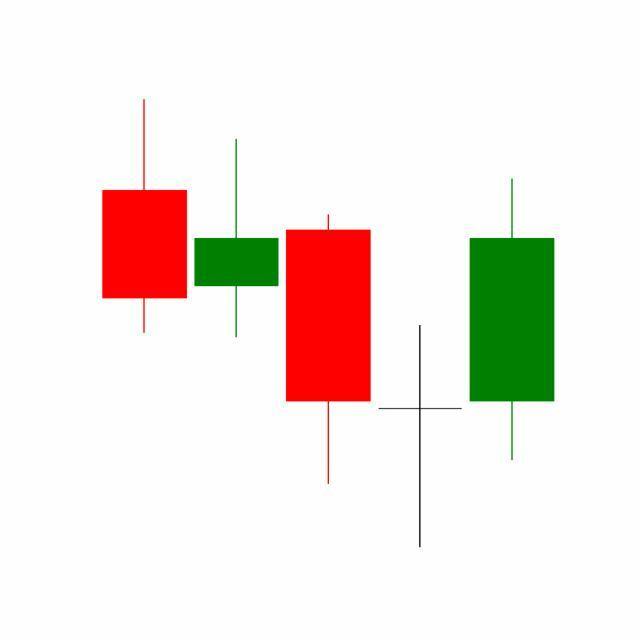Morning Doji Star: (280, 174, 555, 548)
